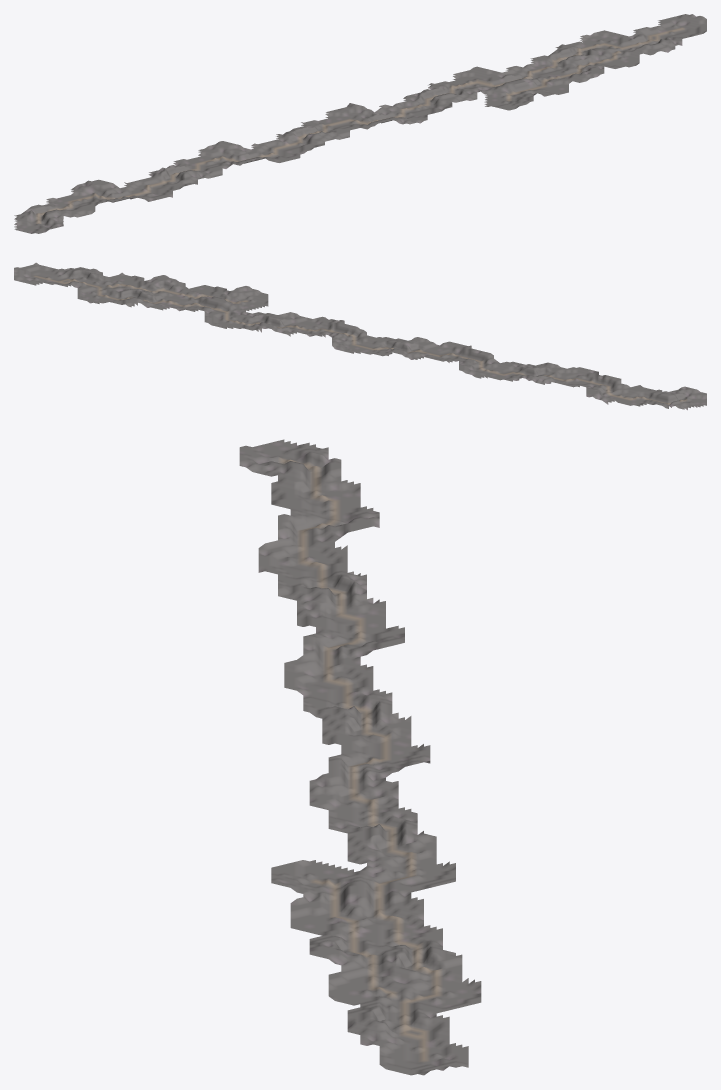
Rendered from terrain.glb.
The picture shows the model from 3 angles, top to bottom: view 1: azimuth 30°, elevation 25°; view 2: azimuth 150°, elevation 25°; view 3: azimuth 270°, elevation 25°; orthographic projection. The views are drawn at different scales.
Parts seen in each view (by area): view 1: NATURAL_14_-2, NATURAL_15_-2, NATURAL_2_-1, NATURAL_13_-2, NATURAL_3_-1, NATURAL_12_-1, NATURAL_11_-1, NATURAL_12_-2, NATURAL_1_-1, NATURAL_8_-2, NATURAL_11_-2, NATURAL_6_-1 (+12 smaller); view 2: NATURAL_15_-2, NATURAL_1_-1, NATURAL_11_-2, NATURAL_12_-2, NATURAL_5_-1, NATURAL_11_-1, NATURAL_14_-2, NATURAL_3_-1, NATURAL_13_-2, NATURAL_6_-1, NATURAL_16_-2, NATURAL_2_-1 (+16 smaller); view 3: NATURAL_14_-2, NATURAL_11_-2, NATURAL_1_-1, NATURAL_5_-1, NATURAL_16_-2, NATURAL_12_-1, NATURAL_15_-2, NATURAL_2_-1, NATURAL_13_-2, NATURAL_12_-2, NATURAL_6_-1, NATURAL_4_-1 (+14 smaller).
Part boxes in pixels (x1,y1,x2,y2): NATURAL_14_-2: (548,47,631,66); NATURAL_15_-2: (591,35,674,57); NATURAL_2_-1: (81,181,165,201); NATURAL_13_-2: (513,55,584,78); NATURAL_3_-1: (131,167,200,192); NATURAL_12_-1: (506,78,568,96); NATURAL_11_-1: (463,84,536,107); NATURAL_12_-2: (463,66,543,86); NATURAL_1_-1: (46,191,118,211); NATURAL_8_-2: (307,108,377,129); NATURAL_11_-2: (428,78,504,97); NATURAL_6_-1: (251,140,324,159); NATURAL_15_-2: (74,268,112,297); NATURAL_1_-1: (608,377,646,406); NATURAL_11_-2: (227,303,264,332); NATURAL_12_-2: (189,297,226,325); NATURAL_5_-1: (456,343,493,372); NATURAL_11_-1: (227,287,264,314); NATURAL_14_-2: (112,279,150,305); NATURAL_3_-1: (532,364,570,386); NATURAL_13_-2: (150,286,188,311); NATURAL_6_-1: (417,337,455,361); NATURAL_16_-2: (36,263,74,286); NATURAL_2_-1: (570,372,608,398); NATURAL_14_-2: (360,940,436,1000); NATURAL_11_-2: (360,831,436,887); NATURAL_1_-1: (284,480,360,533); NATURAL_5_-1: (284,628,360,681); NATURAL_16_-2: (360,1016,436,1065); NATURAL_12_-1: (290,880,360,935); NATURAL_15_-2: (360,982,436,1034); NATURAL_2_-1: (284,514,360,572); NATURAL_13_-2: (360,905,436,961); NATURAL_12_-2: (360,871,436,926); NATURAL_6_-1: (284,663,360,710); NATURAL_4_-1: (297,584,360,634).
Bounding box in the file's own units: 387 × 2.9 × 61.56.
